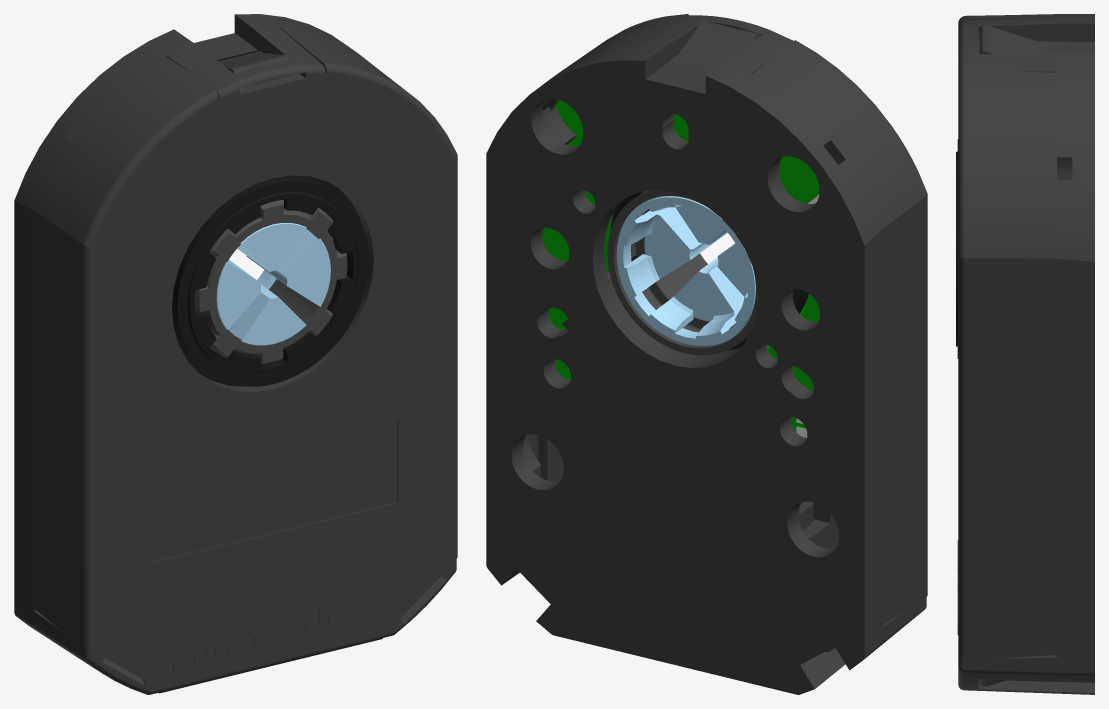
The model's file is CUI_DEVICES_AMT102-0048-I2000-S v1.fbx.
The picture shows the model from 3 angles, left to right: view 1: azimuth 30°, elevation 25°; view 2: azimuth 150°, elevation 25°; view 3: azimuth 270°, elevation 25°; orthographic projection.
Visible parts, largest first — view 1: Body2, Body1, Body3, Body5, Body4, Body6; view 2: Body1, Body2, Body3, Body6, Body9; view 3: Body2, Body1, Body5, Body4.
Part boxes in pixels (x1,y1,x2,y2): Body2: (34, 28, 457, 693); Body1: (14, 14, 456, 694); Body3: (216, 223, 330, 345); Body5: (172, 175, 368, 386); Body4: (187, 192, 358, 375); Body6: (194, 200, 347, 363); Body1: (486, 15, 926, 694); Body2: (528, 14, 927, 651); Body3: (616, 196, 755, 345); Body6: (607, 190, 758, 355); Body9: (542, 100, 819, 437); Body2: (957, 14, 1056, 686); Body1: (958, 14, 1094, 694); Body5: (957, 139, 958, 358); Body4: (956, 151, 957, 346).
Size of the model in its own units: 28.77 by 43.38 by 9.15.
